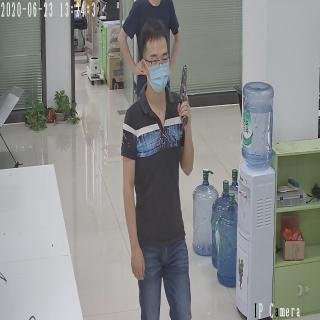gun: (177, 60, 188, 128)
